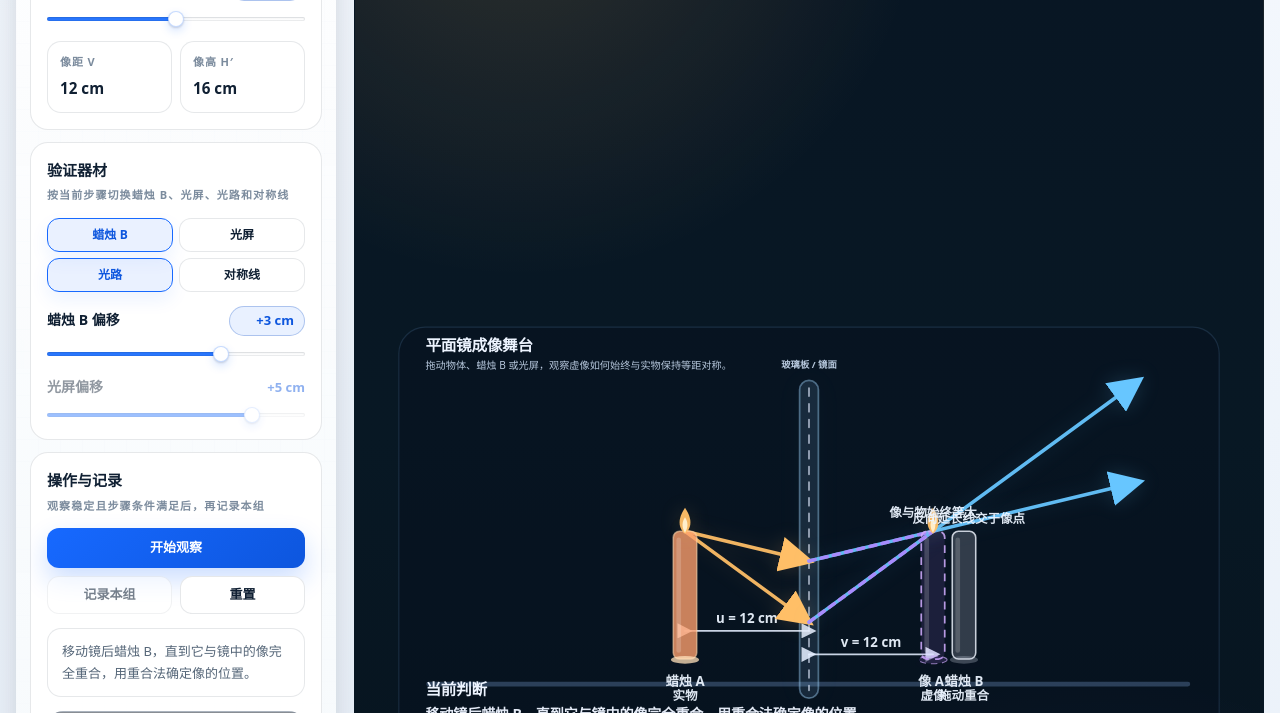
PlaneMirrorLab › records the locating step and advances to equal-distance mode
The image size is (1280, 713).
(page scrolled)
Set the slider labelled "蜡烛 B 偏移" to "0". click: (176, 354)
box: x1=47 y1=346 x2=305 y2=362
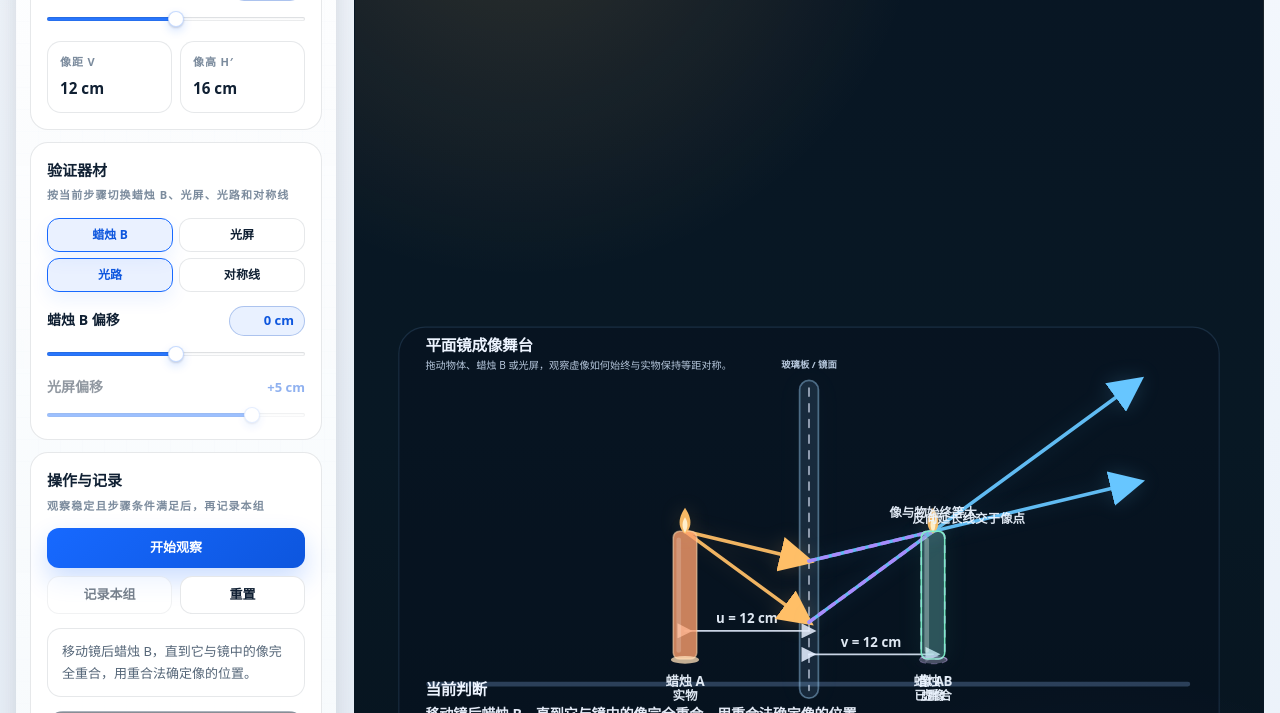
Click the button "开始观察". click: (176, 548)
box: x1=47 y1=528 x2=305 y2=568
Wait 1000 ms
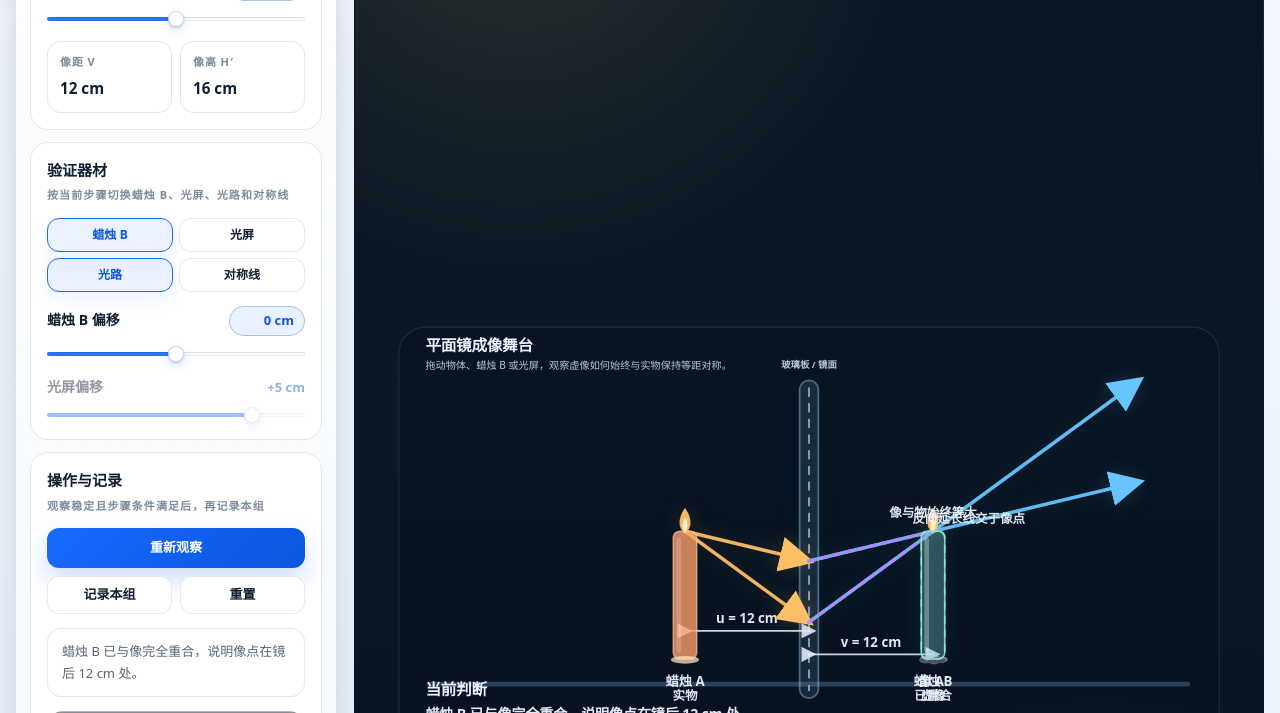
Click the button "记录本组". click: (110, 595)
box: x1=47 y1=576 x2=172 y2=614
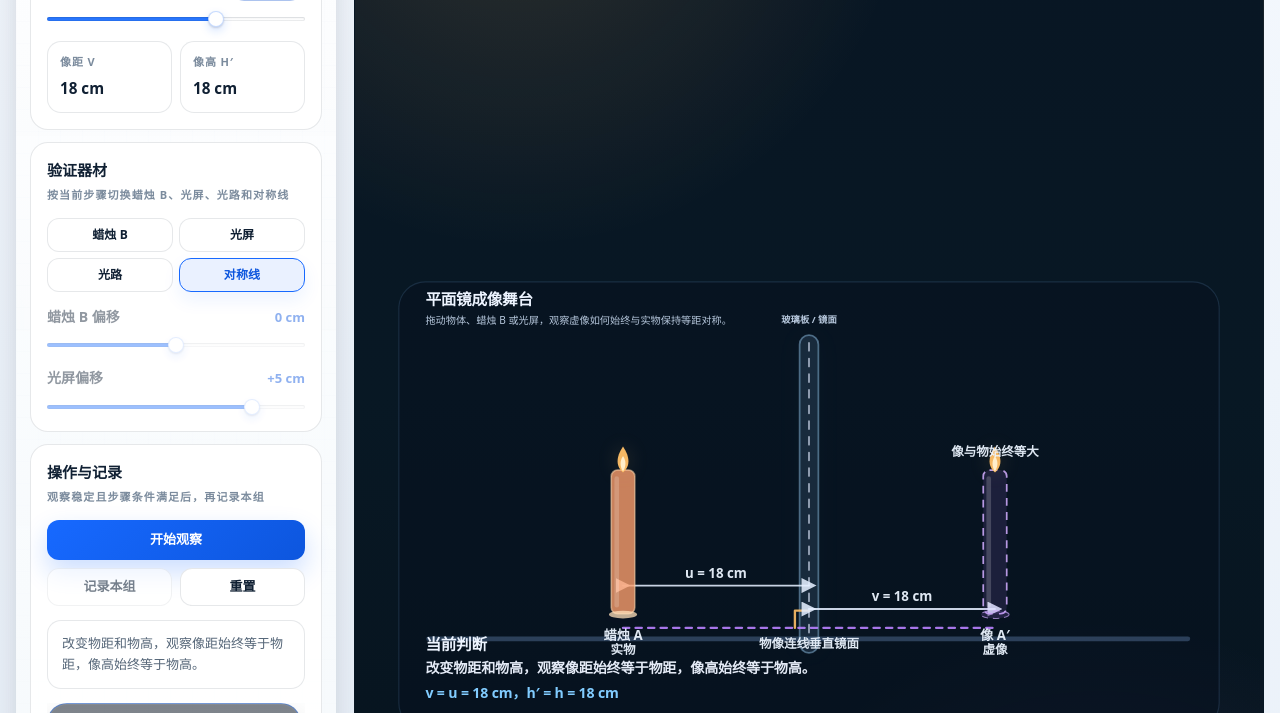
Now the button "记录本组" is disabled, box x1=47 y1=568 x2=172 y2=606
